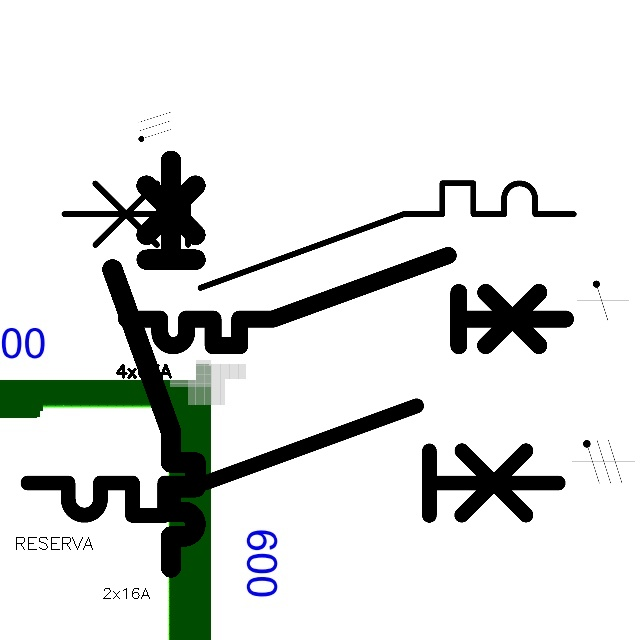interruptor_termomagnetico: (14, 392, 572, 529), (51, 170, 587, 301), (115, 244, 577, 357), (102, 150, 206, 577)
